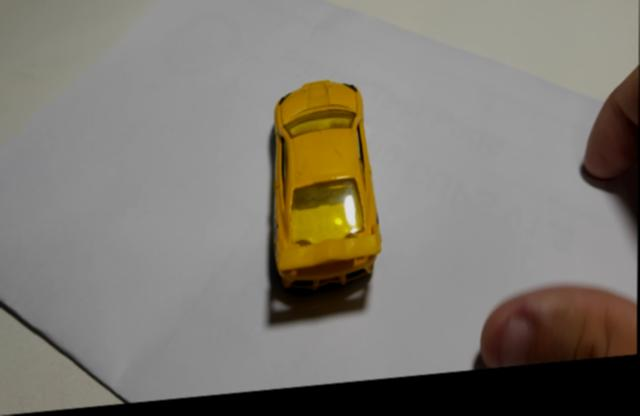07_RHLTURBO: (273, 89, 383, 300)
